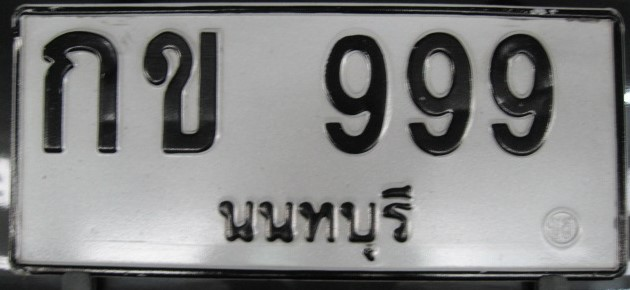txt01: (36, 27, 125, 158)
txt02: (138, 27, 225, 157)
